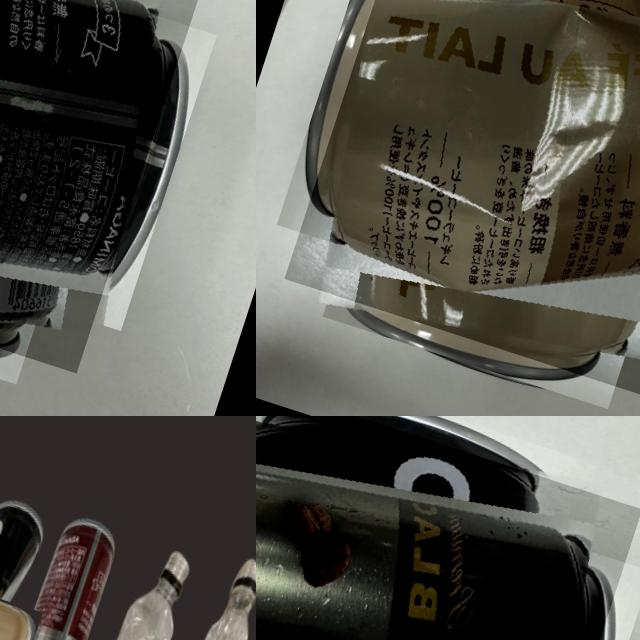Can: (284, 0, 640, 401), (256, 416, 640, 640), (0, 0, 206, 373), (0, 507, 124, 640)
Transparent Plastic Bottle: (48, 537, 205, 640), (134, 546, 256, 640)
